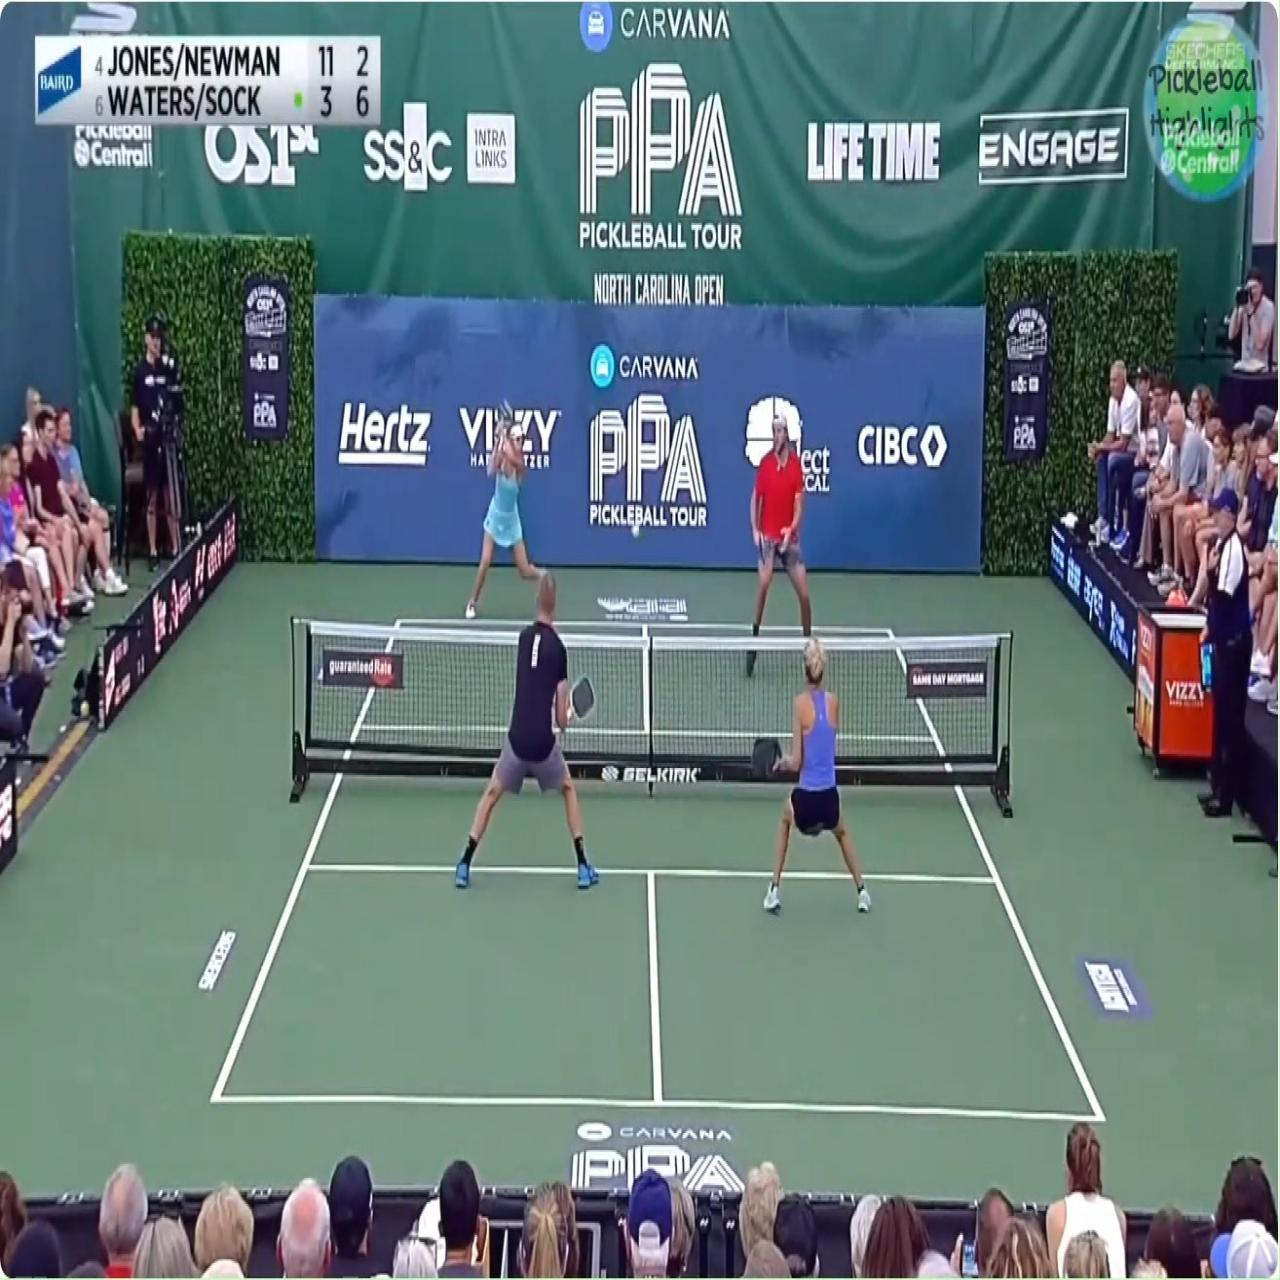pickleball: (632, 523, 640, 538)
